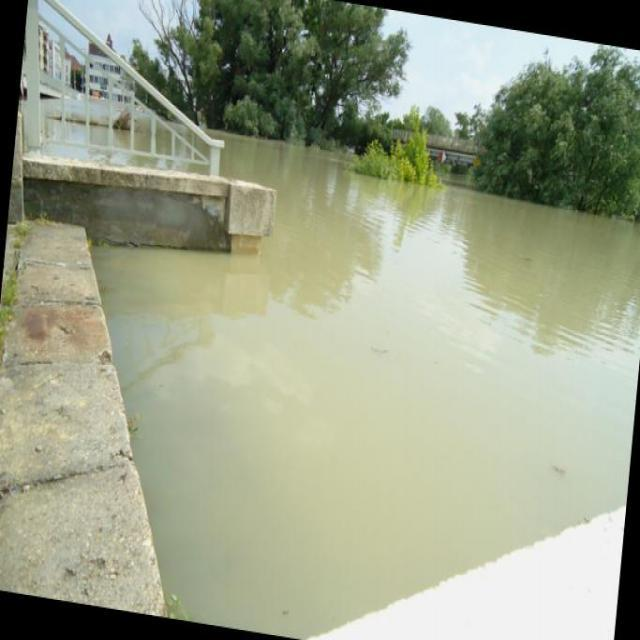flood: (68, 110, 639, 639)
